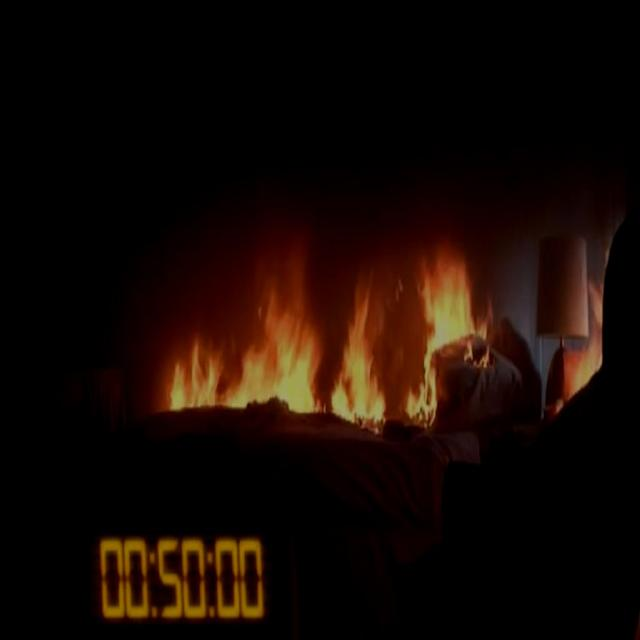fire: (175, 242, 474, 419)
